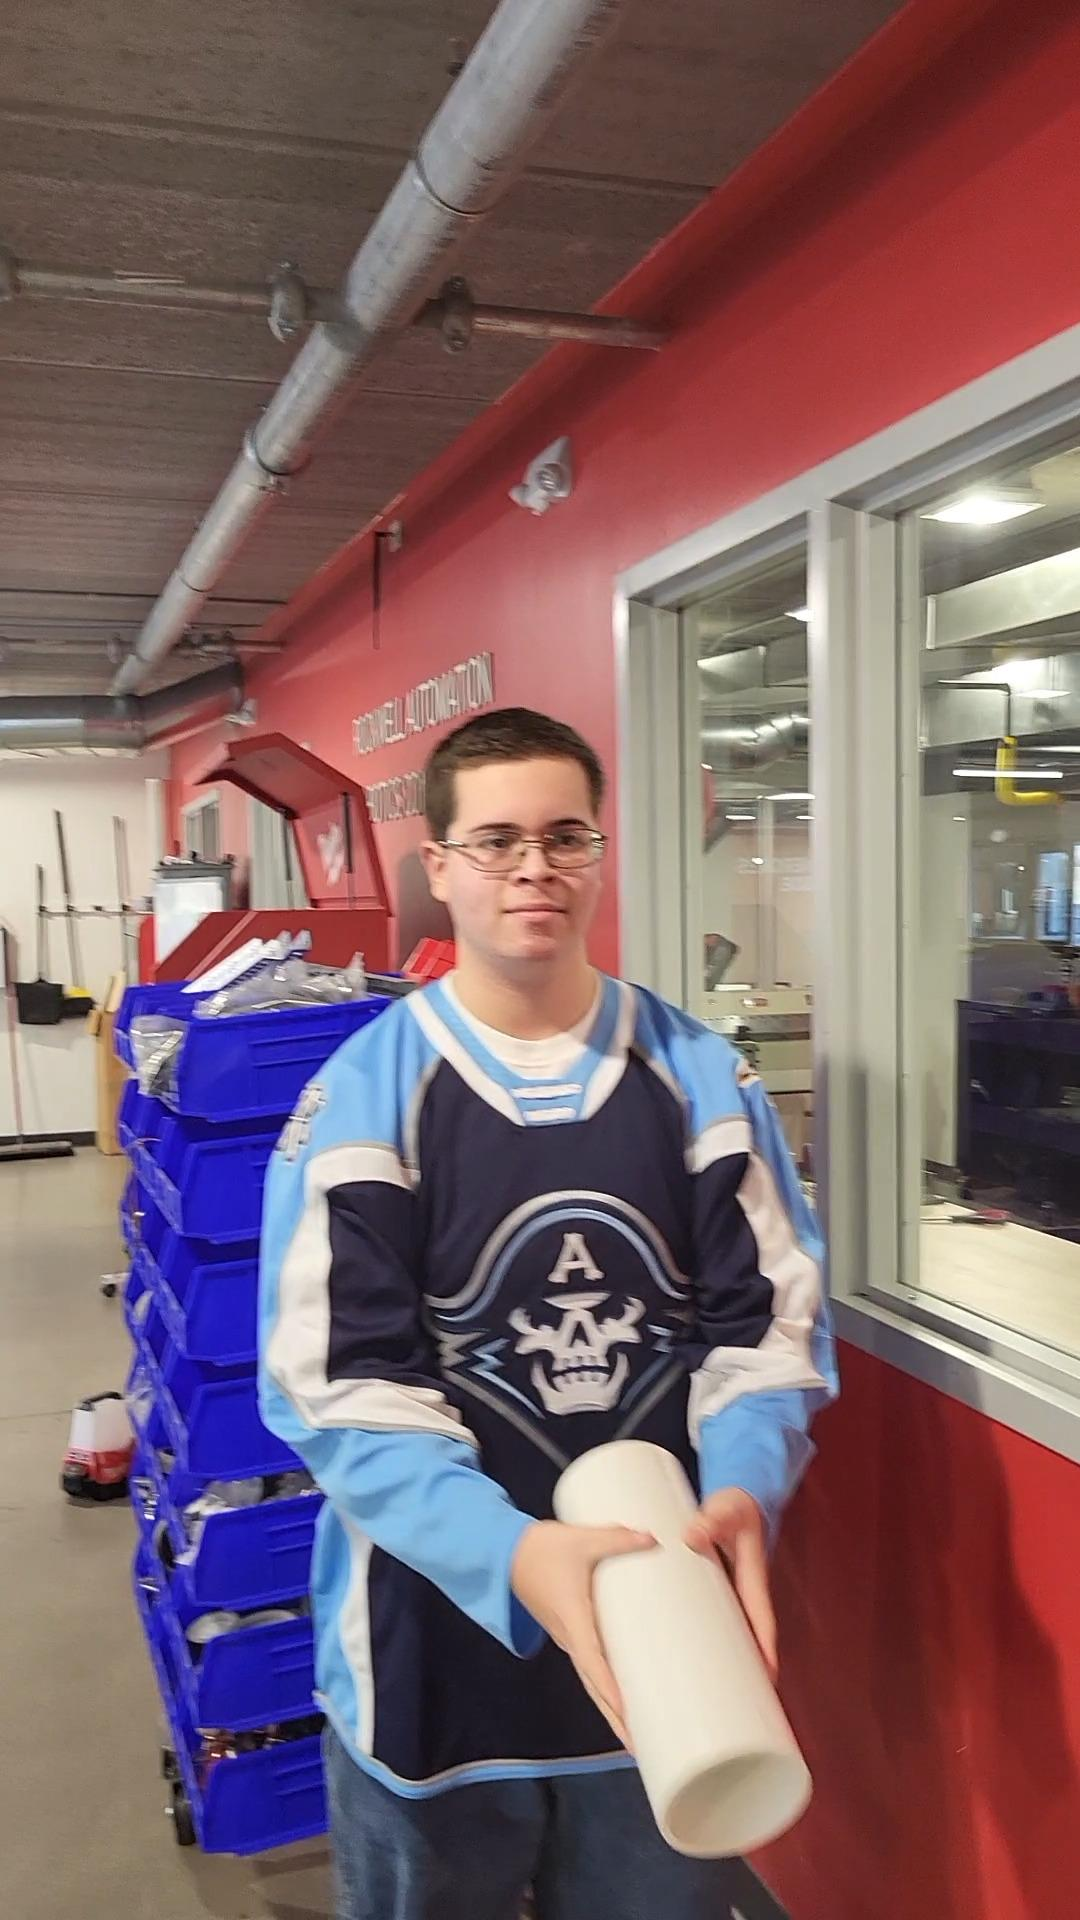coral: (543, 1423, 827, 1858)
